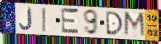9: (82, 9, 100, 36)
D: (105, 11, 124, 36)
E: (60, 6, 80, 36)
I: (41, 7, 47, 33)
J: (18, 7, 33, 31)
M: (123, 11, 148, 39)
